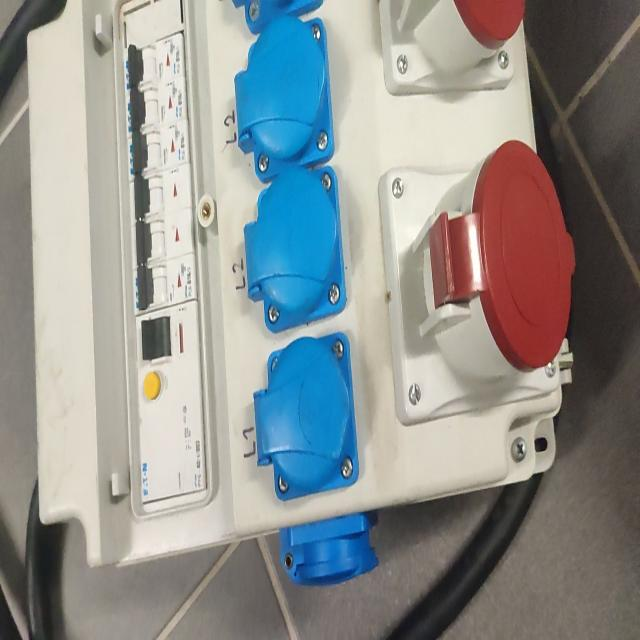400v socket: (377, 141, 575, 428), (380, 0, 526, 93)
house plug covered: (250, 331, 357, 505), (242, 163, 347, 335), (234, 15, 333, 184)
